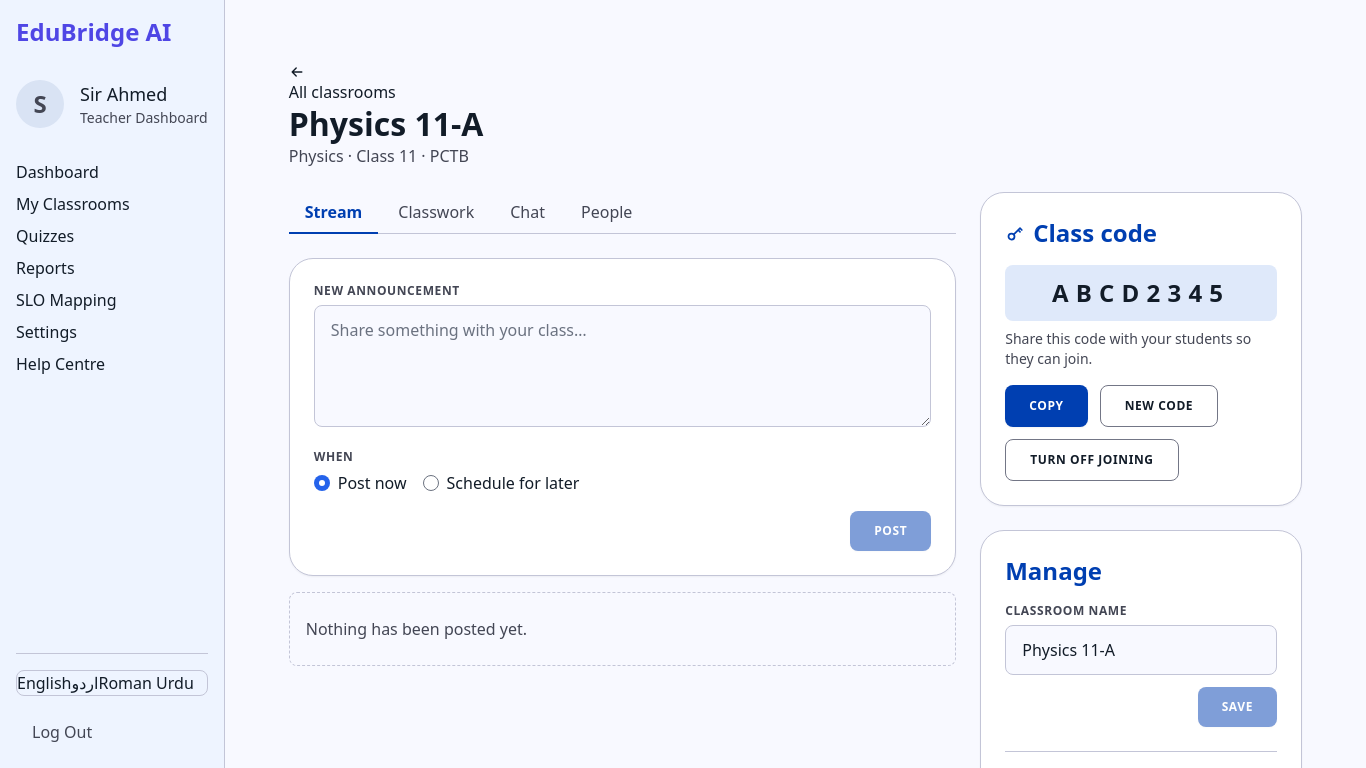
Test case: the owner › sees the code, management and per-student removal
This screenshot has width=1366, height=768.
Check: the text "ABCD2345" is shown, box x1=1005 y1=265 x2=1277 y2=321
Step 1. Click the tab "People" → point(607, 213), box x1=565 y1=192 x2=648 y2=234
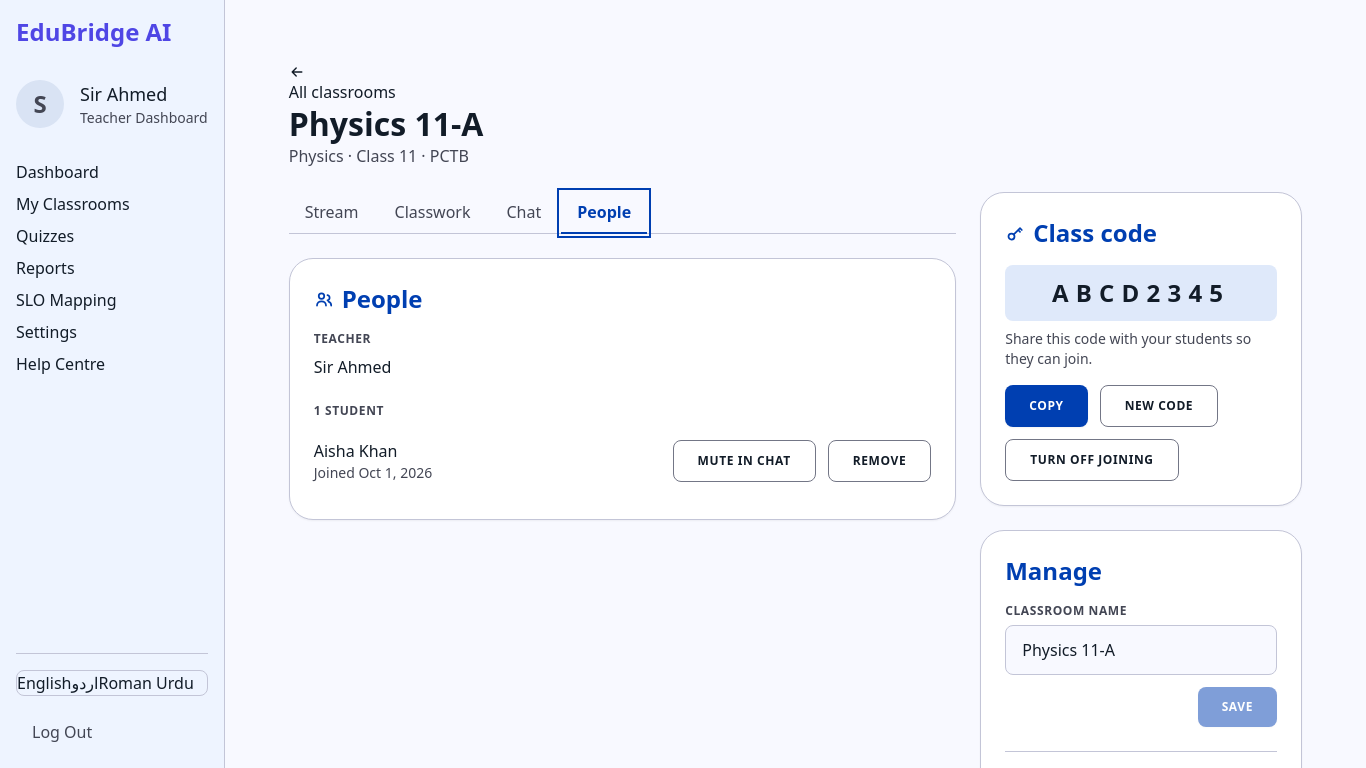
Check: the button "Remove" is shown, box x1=828 y1=440 x2=931 y2=482
